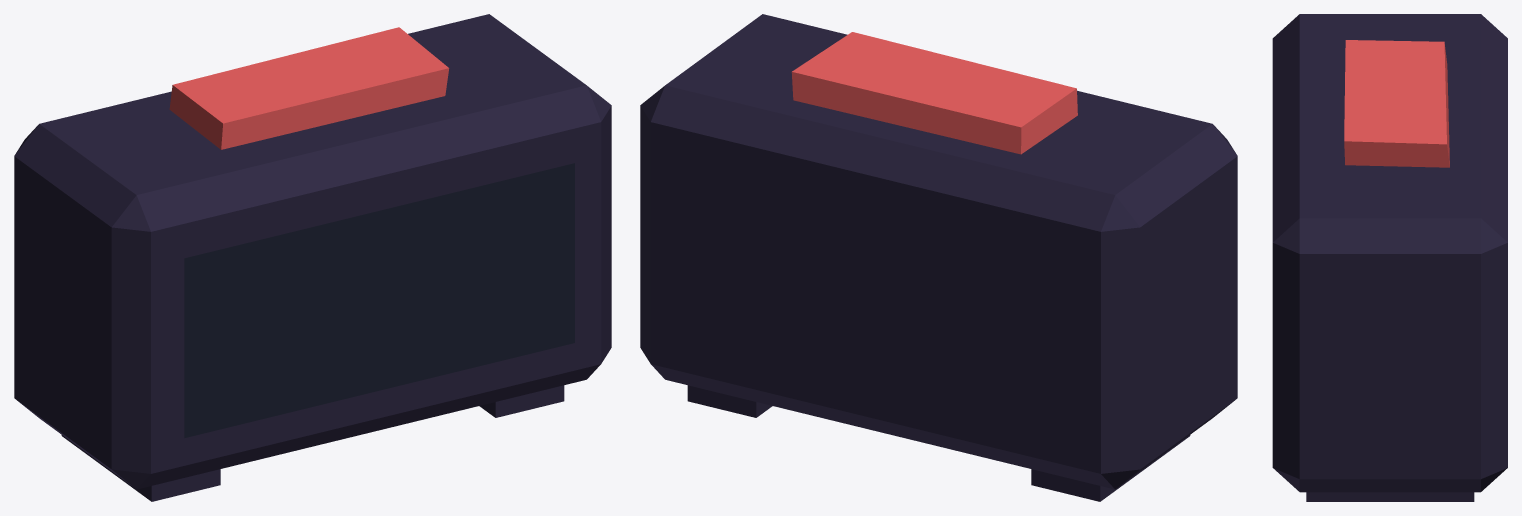
File: clock.fbx
3 renders of one model, left to right at view 1: azimuth 30°, elevation 25°; view 2: azimuth 150°, elevation 25°; view 3: azimuth 270°, elevation 25°, orthographic. The views are drawn at different scales.
Visible parts, largest first — view 1: clock; view 2: clock; view 3: clock.
Boxes of the visible parts, x1=… form: clock: x1=14, y1=14, x2=611, y2=501; clock: x1=640, y1=14, x2=1237, y2=501; clock: x1=1272, y1=14, x2=1507, y2=501.
Size of the model in its own units: 0.16 by 0.1044 by 0.072.
